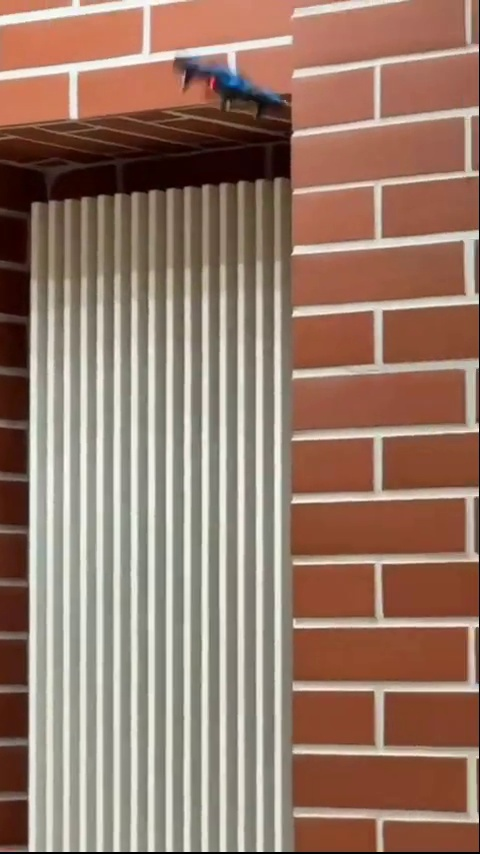drone: (176, 48, 289, 122)
